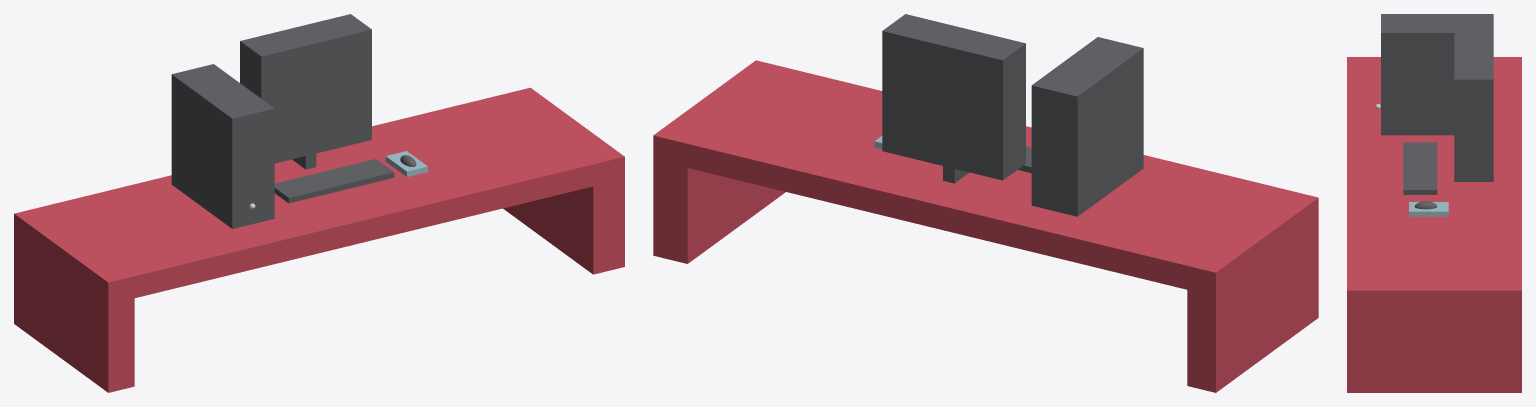
Rendered from asset.glb.
The picture shows the model from 3 angles, left to right: view 1: azimuth 30°, elevation 25°; view 2: azimuth 150°, elevation 25°; view 3: azimuth 270°, elevation 25°; orthographic projection. The views are drawn at different scales.
Parts seen in each view (by area): view 1: Mesh_Mesh_head_geo.001_lambert2SG.001; view 2: Mesh_Mesh_head_geo.001_lambert2SG.001; view 3: Mesh_Mesh_head_geo.001_lambert2SG.001.
Part boxes in pixels (x1,y1,x2,y2): Mesh_Mesh_head_geo.001_lambert2SG.001: (14, 14, 624, 392); Mesh_Mesh_head_geo.001_lambert2SG.001: (653, 14, 1318, 392); Mesh_Mesh_head_geo.001_lambert2SG.001: (1347, 14, 1521, 392).
Size of the model in its own units: 98 by 44 by 31.
